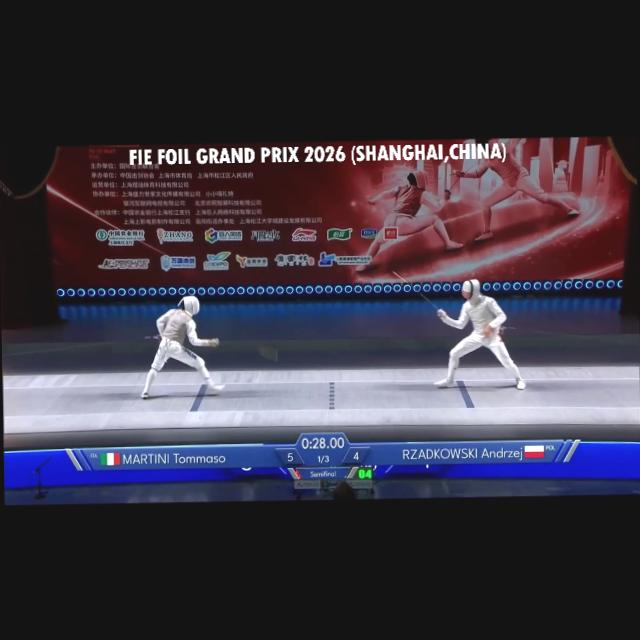blade: (390, 268, 444, 323), (212, 335, 285, 368)
